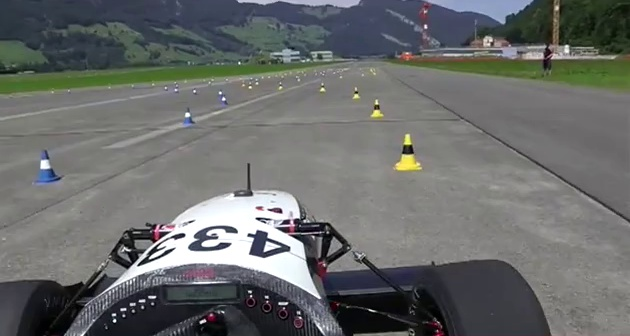Cone: (29, 149, 64, 186), (394, 131, 423, 170), (368, 97, 387, 117), (182, 106, 196, 125), (351, 84, 362, 99)
